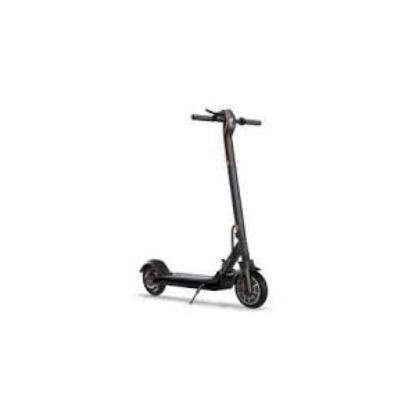bike: (139, 108, 269, 310)
